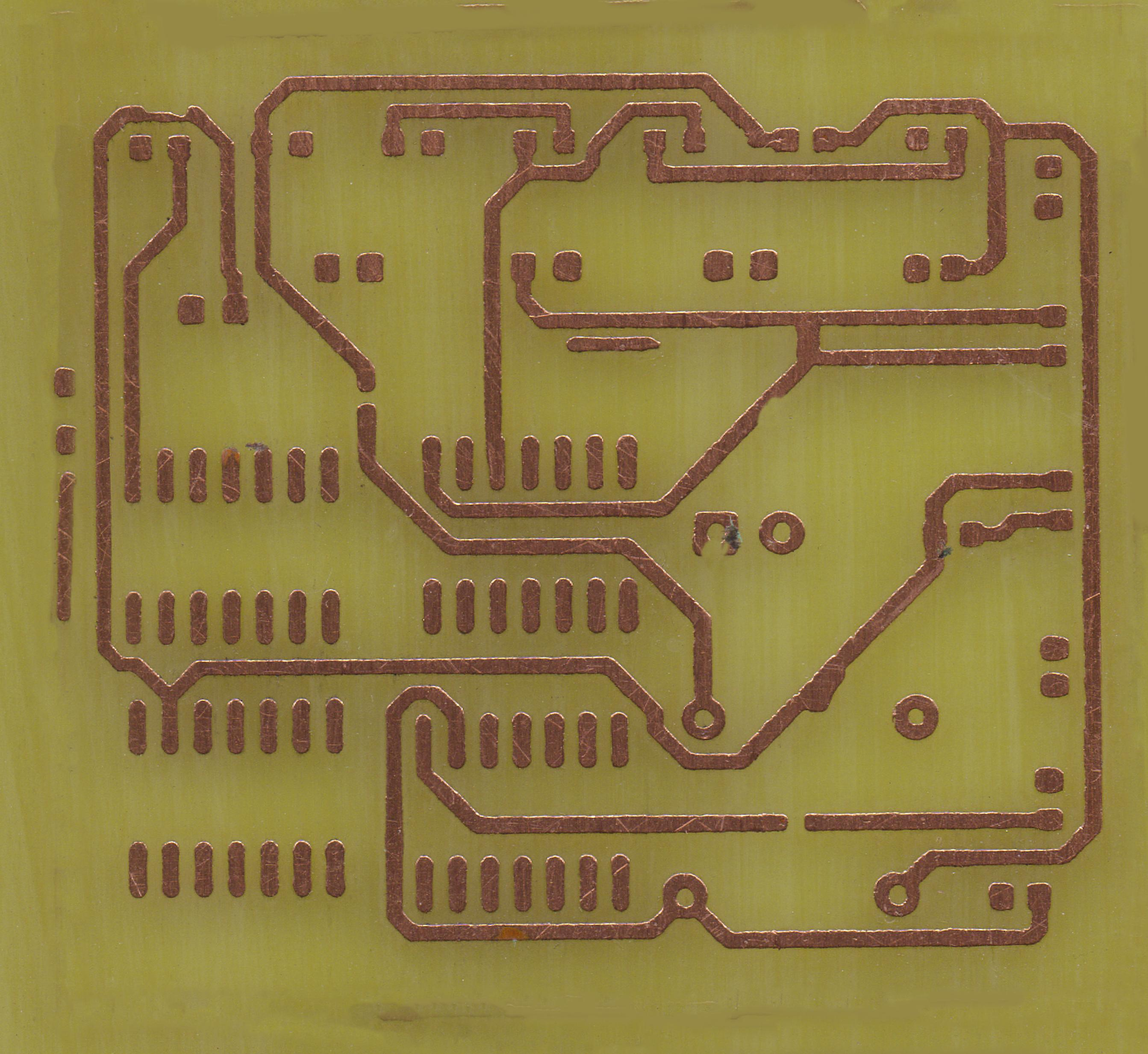missing_hole: (691, 506, 742, 559)
mouse_bite: (744, 385, 789, 433), (134, 102, 194, 121)
open_circuit: (774, 805, 822, 837), (352, 375, 383, 416)
short: (786, 306, 827, 374)
spur: (791, 656, 851, 725)
spurious_copper: (56, 470, 75, 629), (565, 331, 663, 355)
